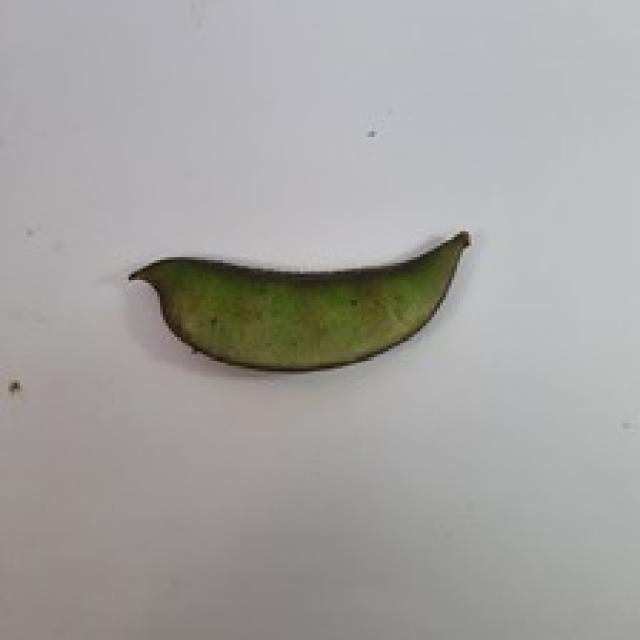Bean: (126, 226, 471, 371)
